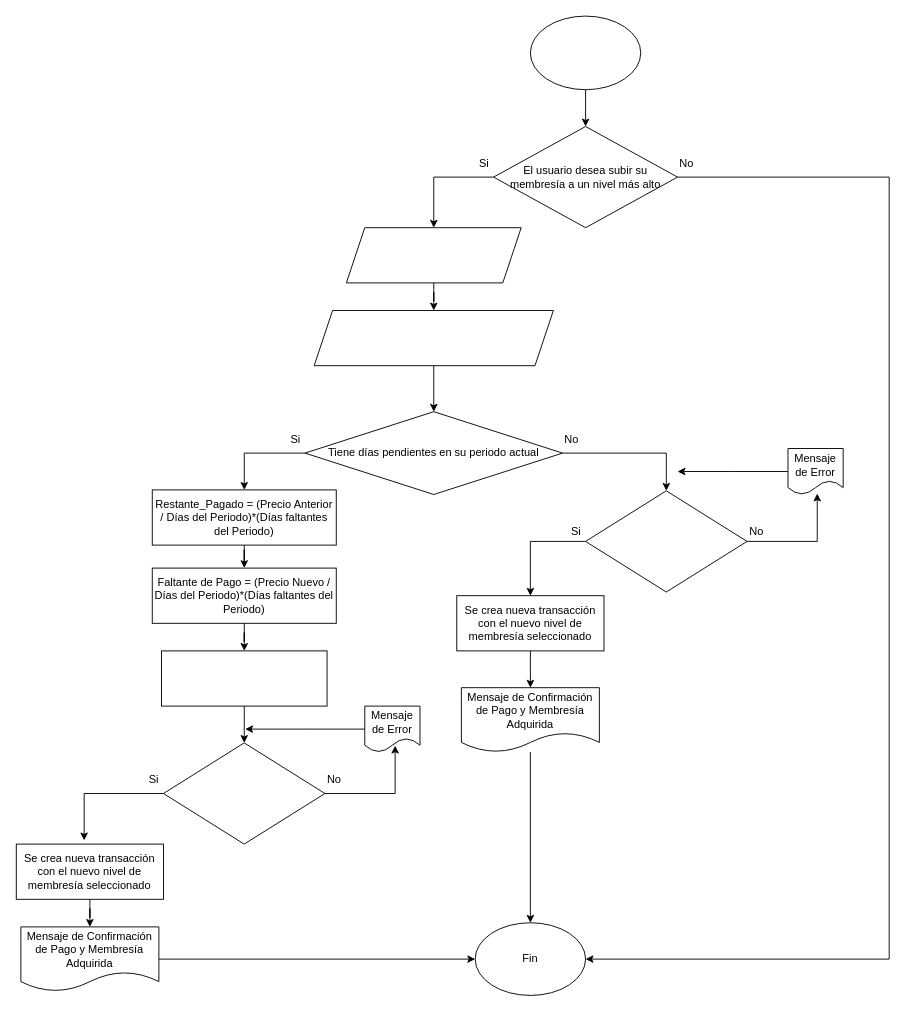
The diagram is 913 pixels wide and 1012 high, and some of its shapes have lost their labels. The shapes that lost their labels are listed below. From the top down, each one's box as (x1, y1, x2, y2) in pixels, then its label:
(529, 15, 641, 90): Inicio
(345, 227, 521, 283): Leer Precio Nuevo Nivel de Membresía
(313, 310, 553, 366): Leer Precio de la Membresía anterior en la transacción activa del usuario
(585, 490, 747, 592): Se proceso el pago de paypal
(161, 650, 327, 706): Precio a Pagar = Faltante de Pago - Restante Pagado
(163, 742, 325, 844): Se proceso el pago de paypal por el "Precio a Pagar"
